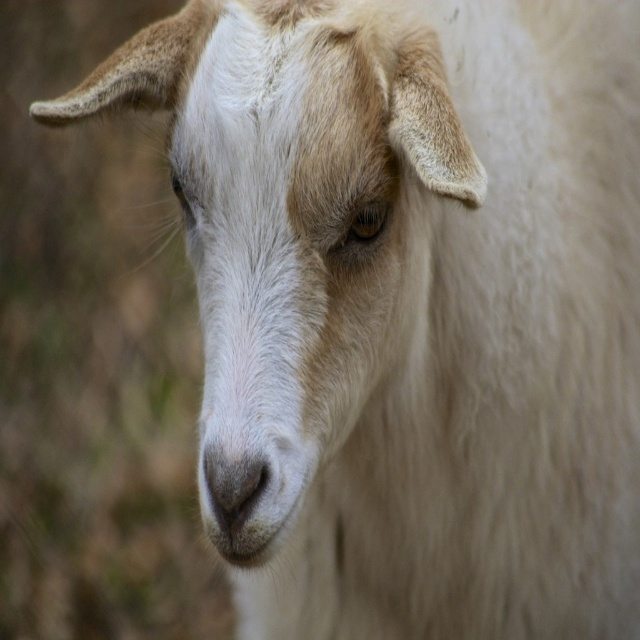Goat: (28, 0, 640, 639)
